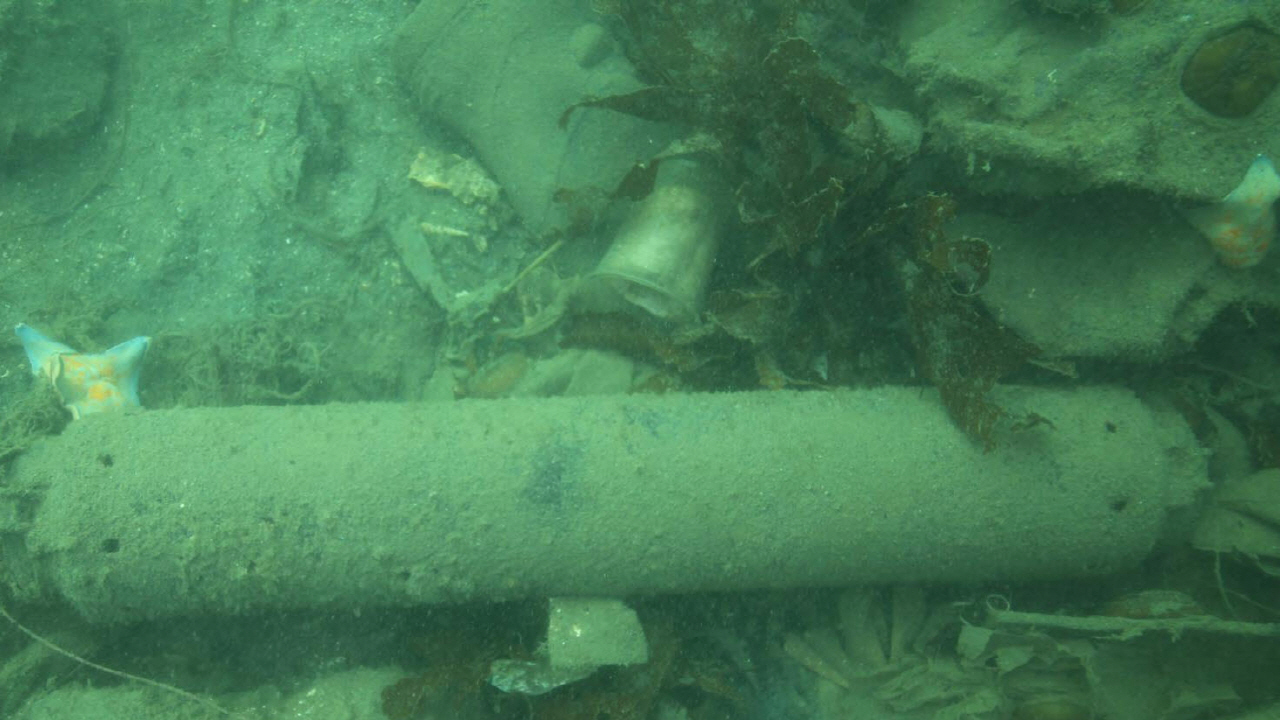eel fish trap: (0, 383, 1212, 627)
